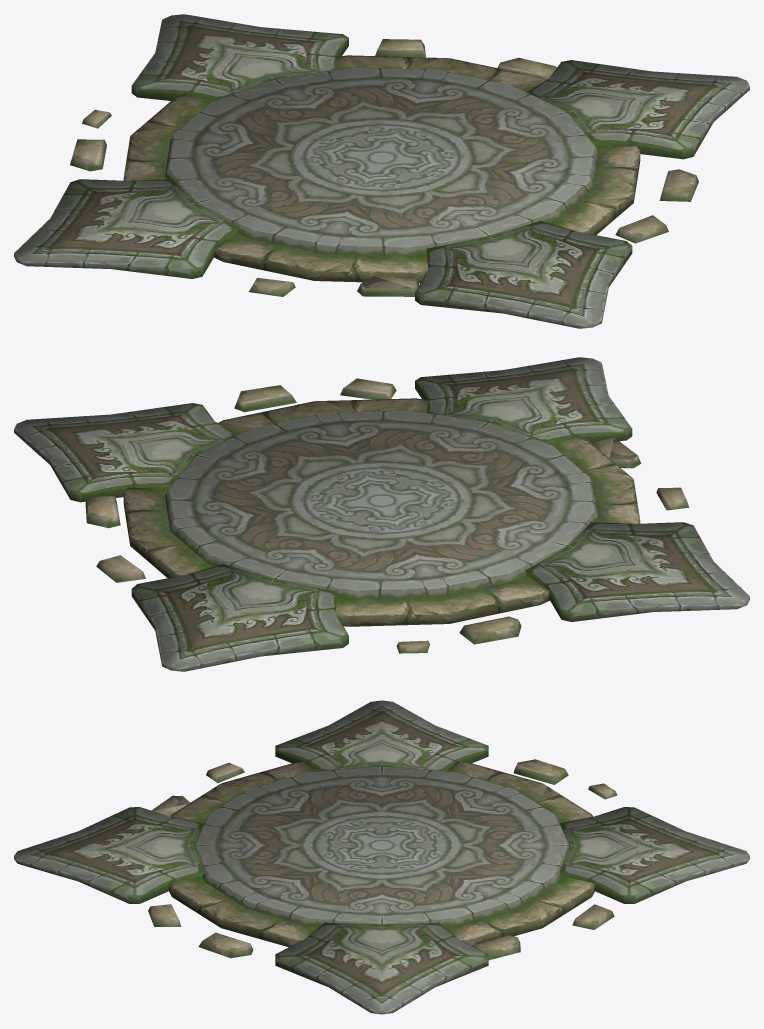
File: zc_zhanchang001_pingtai01_56_17_9889out.fbx
3 views of the same model, one above another, from view 1: azimuth 30°, elevation 25°; view 2: azimuth 150°, elevation 25°; view 3: azimuth 270°, elevation 25° (orthographic). The views are drawn at different scales.
Visible parts, largest first — view 1: zc_zhanchang001_pingtai01; view 2: zc_zhanchang001_pingtai01; view 3: zc_zhanchang001_pingtai01.
Boxes of the visible parts, bbox=[...] form: zc_zhanchang001_pingtai01: bbox=[14, 14, 749, 328]; zc_zhanchang001_pingtai01: bbox=[14, 357, 749, 671]; zc_zhanchang001_pingtai01: bbox=[14, 700, 749, 1014].
Size of the model in its own units: 10.83 by 0.2411 by 10.83.
